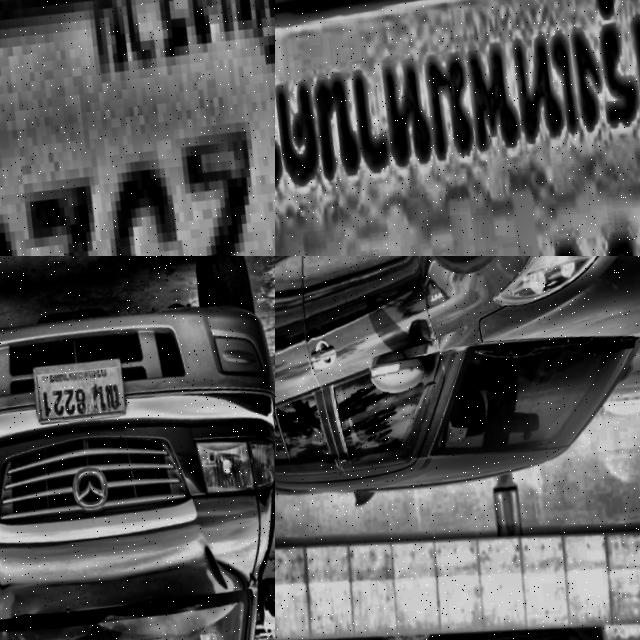license-plate: (275, 0, 640, 256), (0, 0, 275, 256), (28, 342, 135, 428)
